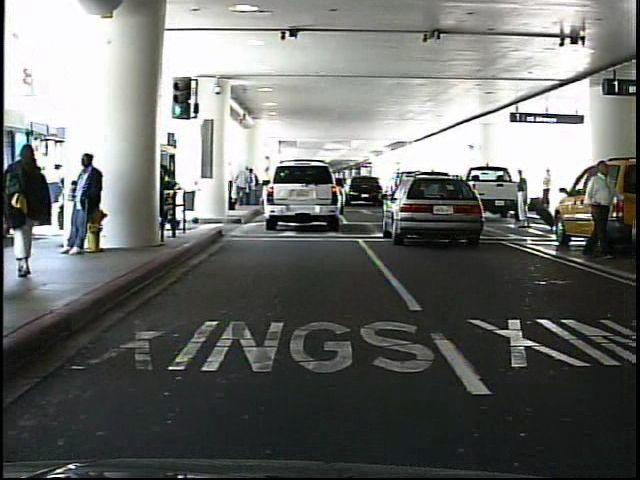person: (4, 141, 55, 275), (67, 149, 106, 256), (584, 156, 620, 261), (511, 169, 531, 232), (543, 168, 555, 213)
